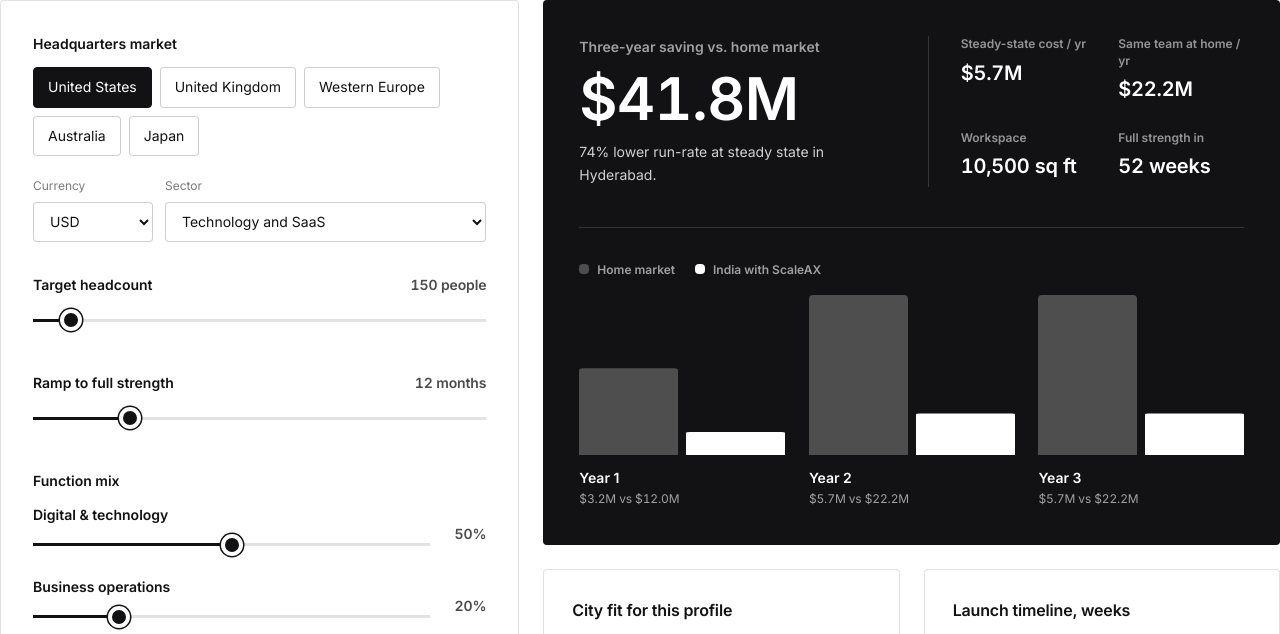
Scenario: CostCalculator (GCC Planner) › normalises the function-mix shares in the display
This screenshot has width=1280, height=634.
Expected: the text "50%" is shown, [455,525,486,542]
Set the slider named "Digital & technology" to "100" at {"x": 422, "y": 544}, box [33,532,430,556]
(page scrolled)
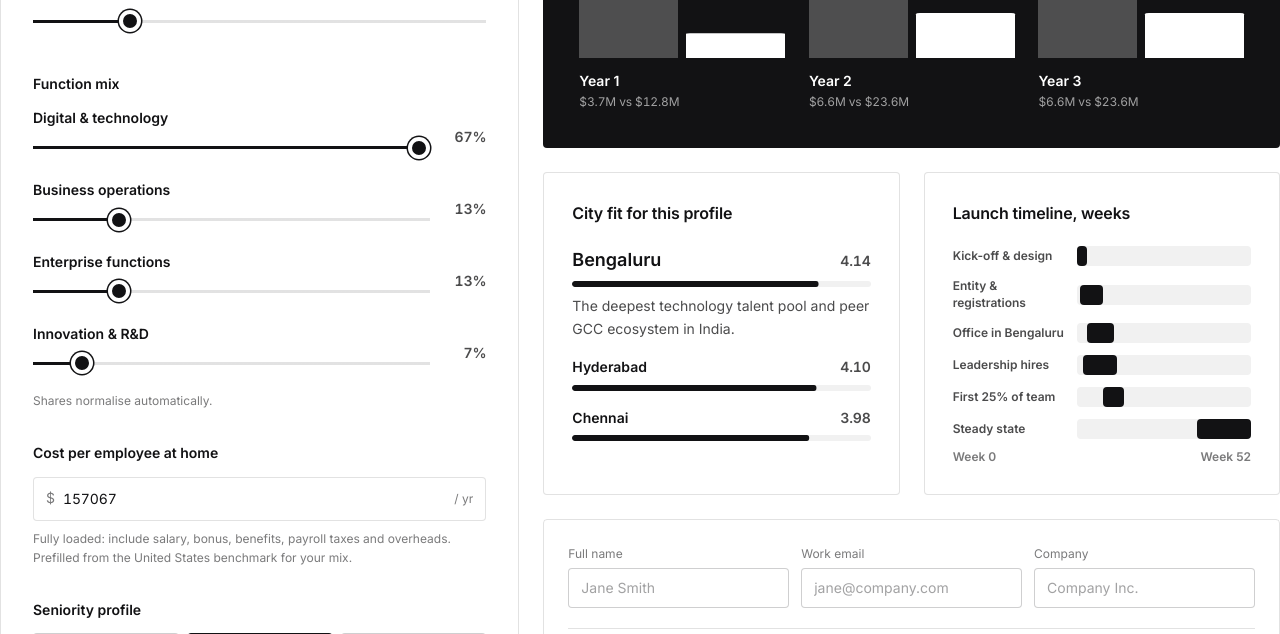
Expected: the text "Shares normalise automatically." is shown, [33,393,212,408]
Expected: the text "67%" is shown, [455,128,486,145]
